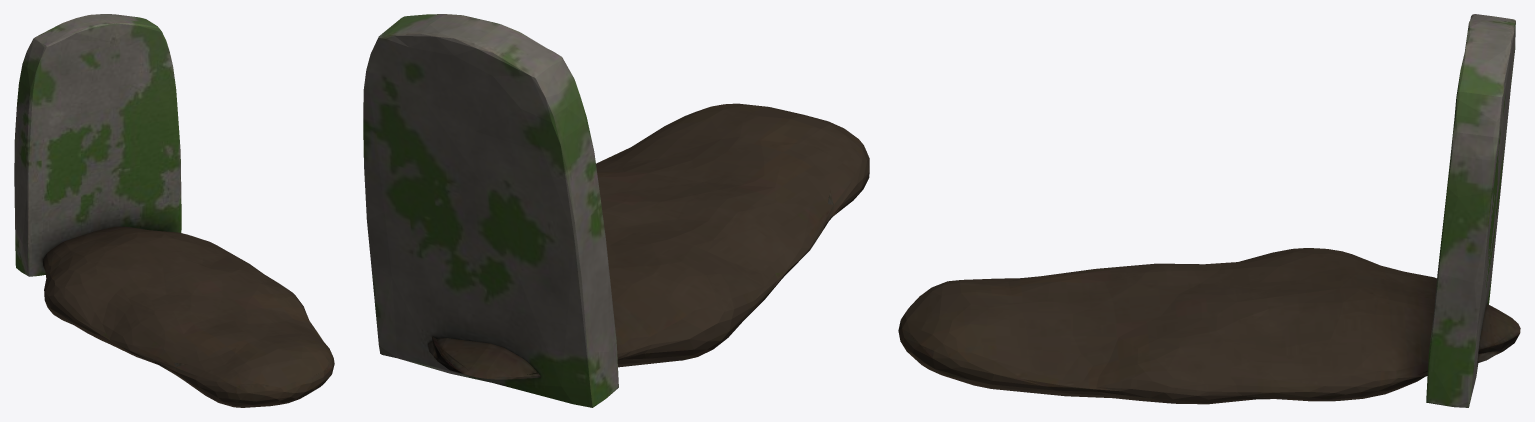
File: vespera_lapide_a.glb
3 views of the same model, side by side, from view 1: azimuth 30°, elevation 25°; view 2: azimuth 150°, elevation 25°; view 3: azimuth 270°, elevation 25° (orthographic). The views are drawn at different scales.
Parts seen in each view (by area): view 1: vespera_lapide_a_tronco; view 2: vespera_lapide_a_tronco; view 3: vespera_lapide_a_tronco.
Boxes of the visible parts, x1=… form: vespera_lapide_a_tronco: x1=14, y1=14, x2=334, y2=407; vespera_lapide_a_tronco: x1=363, y1=14, x2=869, y2=407; vespera_lapide_a_tronco: x1=898, y1=14, x2=1520, y2=407.
Bounding box in the file's own units: 0.7759 × 0.9667 × 1.56.
Materials: 1 (1 with a texture image).
